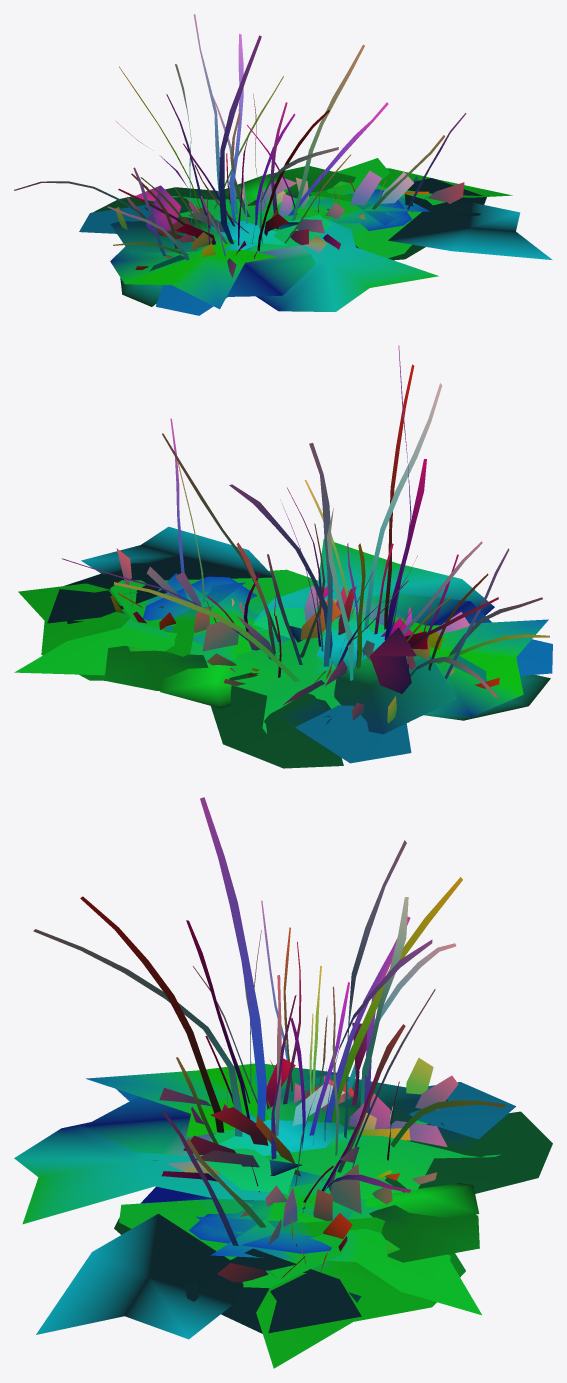
File: Wild_Grass_vdilbaiia_Mid_vdilbaiia_VarD_LOD2.fbx
3 renders of one model, top to bottom at view 1: azimuth 30°, elevation 25°; view 2: azimuth 150°, elevation 25°; view 3: azimuth 270°, elevation 25°, orthographic. The views are drawn at different scales.
Parts seen in each view (by area): view 1: _ok2u_VarD_LOD3; view 2: _ok2u_VarD_LOD3; view 3: _ok2u_VarD_LOD3.
Part boxes in pixels (x1=…): _ok2u_VarD_LOD3: x1=14, y1=14, x2=552, y2=315; _ok2u_VarD_LOD3: x1=14, y1=345, x2=552, y2=768; _ok2u_VarD_LOD3: x1=14, y1=797, x2=552, y2=1368.
Size of the model in its own units: 93.86 by 50.68 by 66.33.
